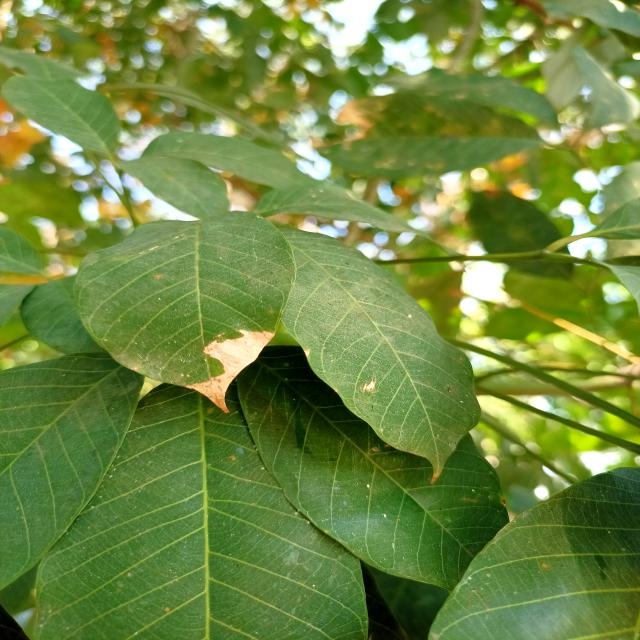Leaf-Blight: (184, 329, 276, 413), (363, 378, 376, 391)
